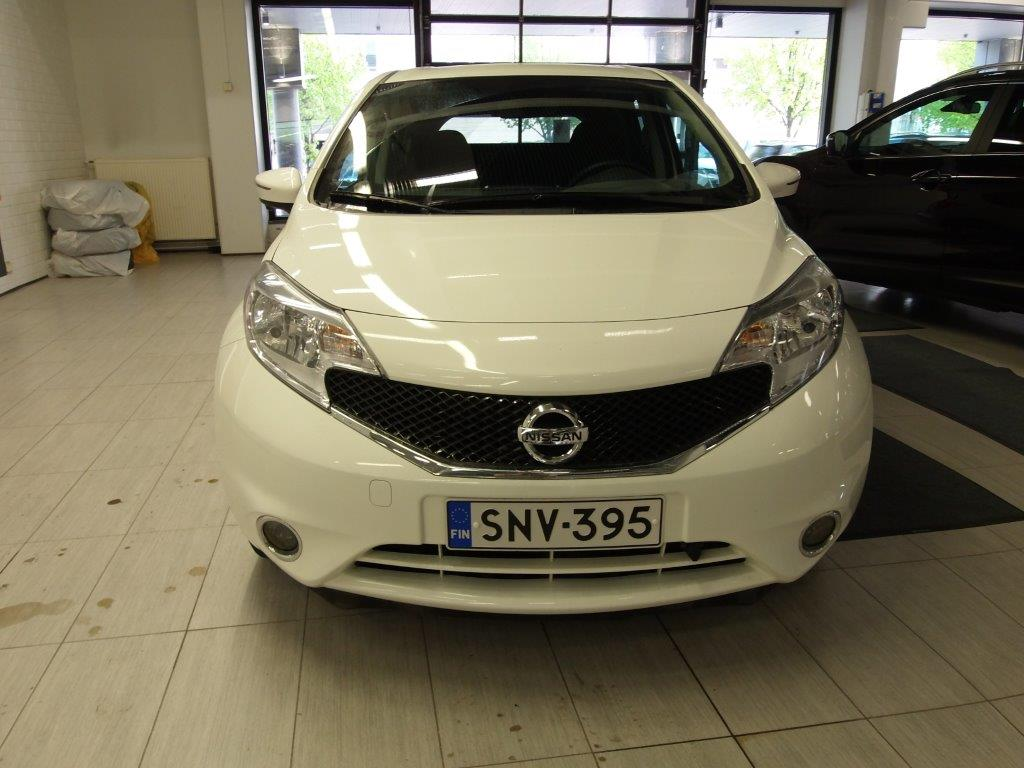license: (445, 496, 661, 552)
